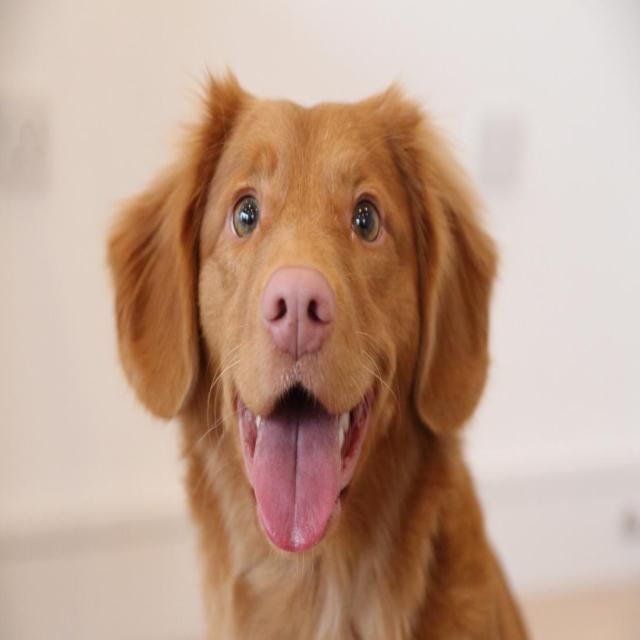dogs: (97, 56, 530, 640)
